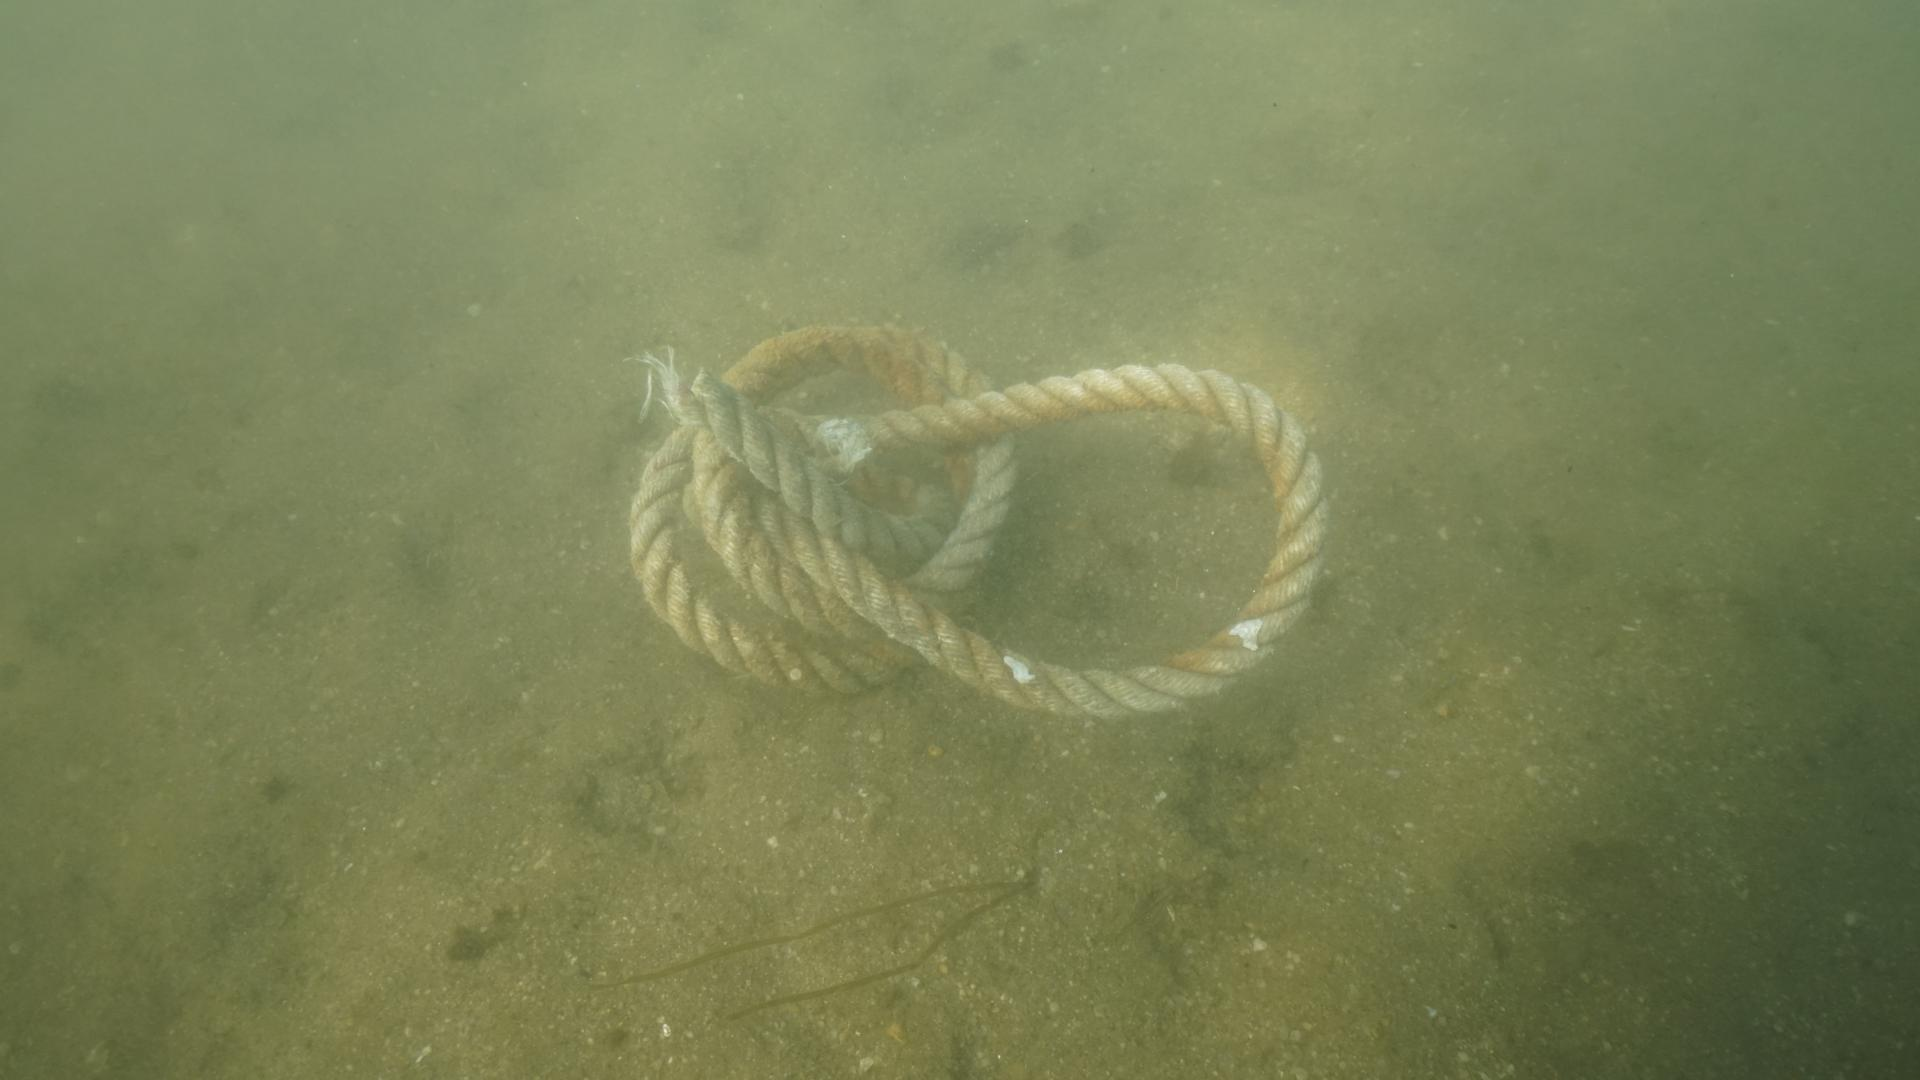bundle of ropes: (621, 309, 1336, 725)
